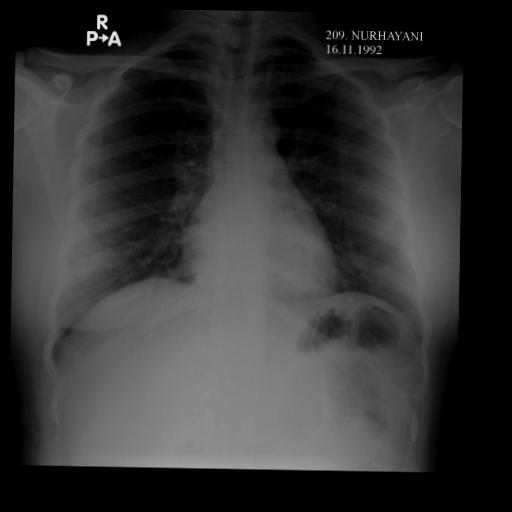normal: (40, 14, 442, 384)
